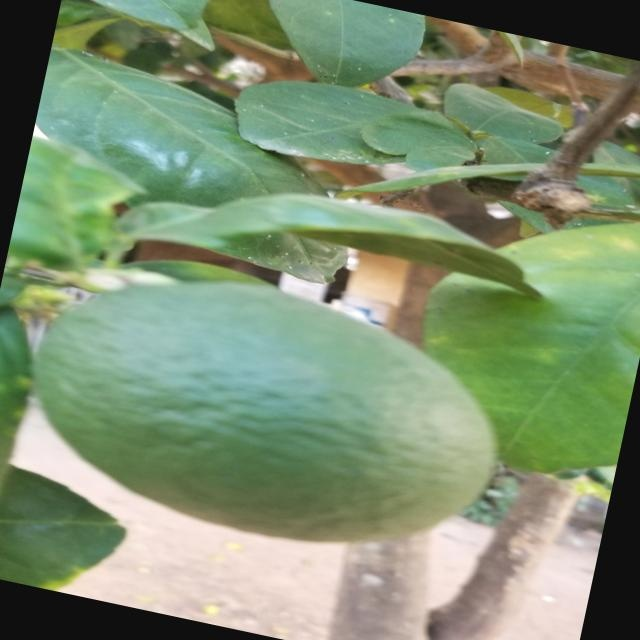agrume: (0, 233, 536, 592)
